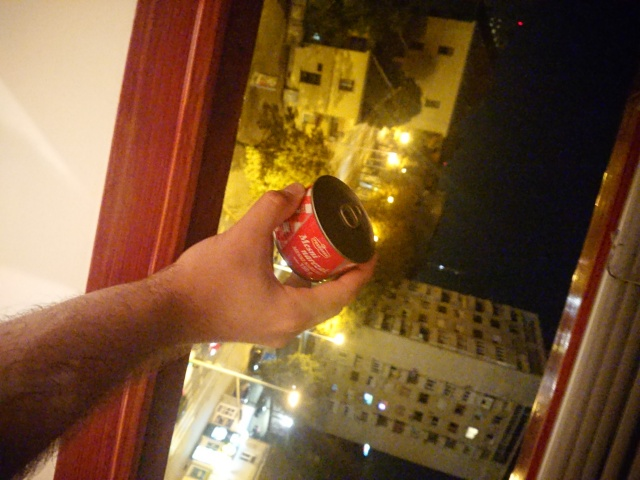Podravka Luncheon Meat 150g: (268, 174, 378, 284)
